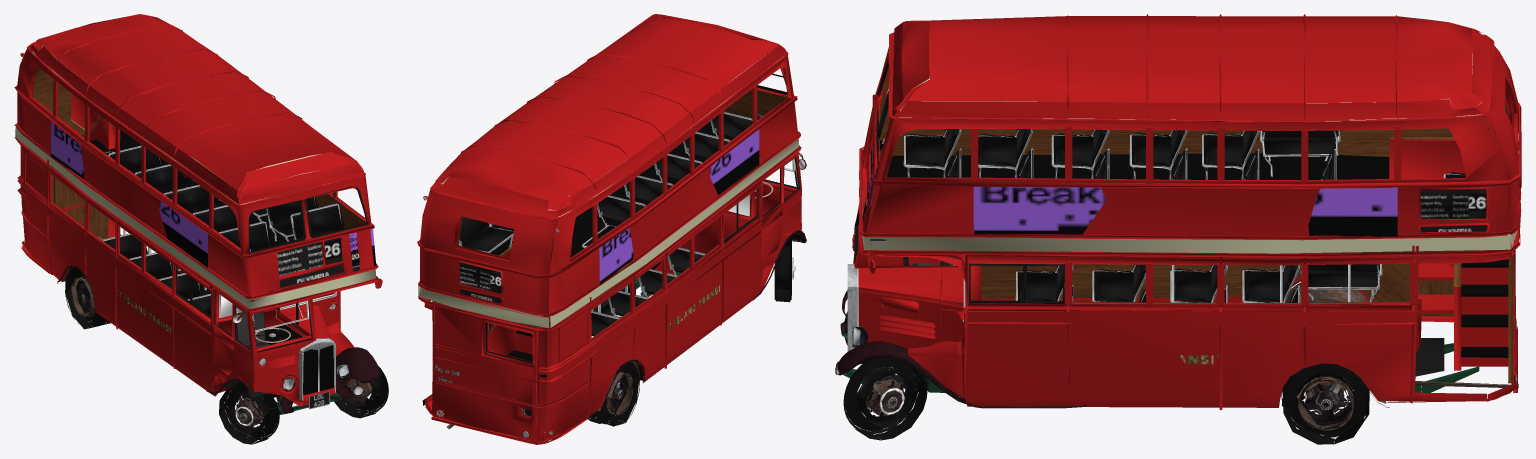
File: bp26_bus.fbx
3 views of the same model, side by side, from view 1: azimuth 30°, elevation 25°; view 2: azimuth 150°, elevation 25°; view 3: azimuth 270°, elevation 25° (orthographic). The views are drawn at different scales.
Visible parts, largest first — view 1: bp26_bus_LOD0; view 2: bp26_bus_LOD0; view 3: bp26_bus_LOD0.
Boxes of the visible parts, x1,y1,x2,y2 form: bp26_bus_LOD0: [14, 14, 388, 444]; bp26_bus_LOD0: [417, 14, 806, 444]; bp26_bus_LOD0: [835, 14, 1521, 444].
Size of what is drawn, in the model's own units: 2.69 by 4.47 by 7.82.
